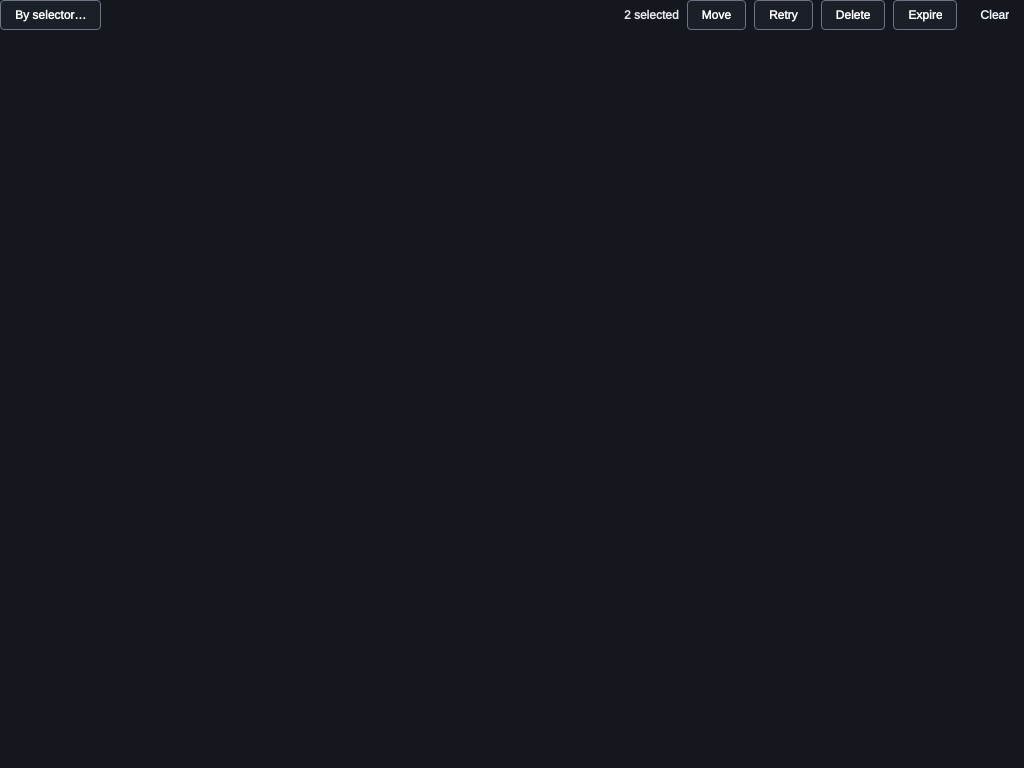
MessageActions › reports a by-id operation that stopped part-way, naming the ids left undone
Click the button "Delete" at (853, 15), box [821,0,885,30]
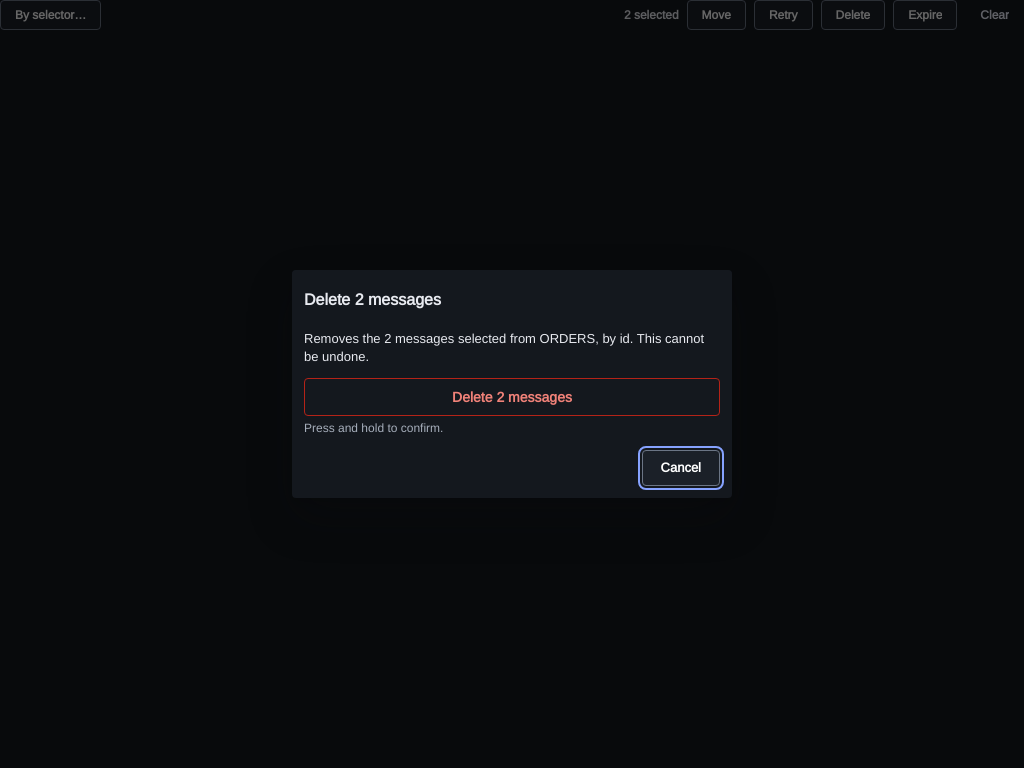
Press the mouse on the button "Delete 2 messages Delete 2 messages" at (512, 398), box [304,378,720,416]
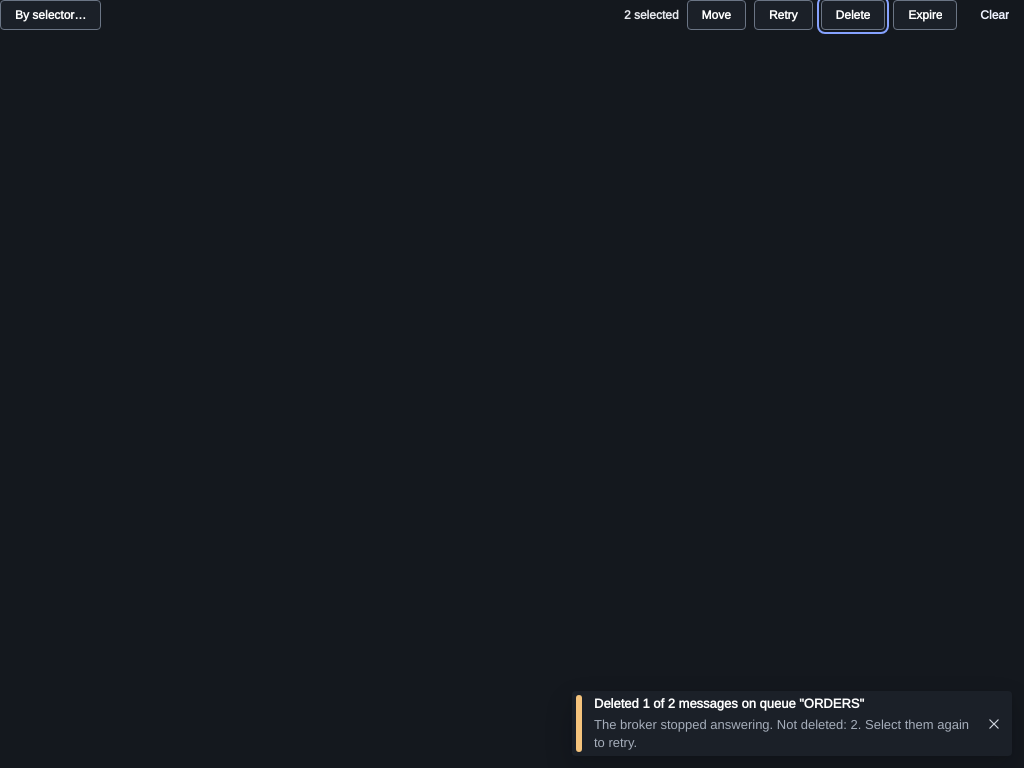
Check: the 2nd message shows "Deleted 1 of 2 messages on queue \"ORDERS\"", box [594,695,864,712]
Check: the 2nd message shows "The broker stopped answering. Not deleted: 2.", box [594,716,969,751]
Check: the dialog is gone
